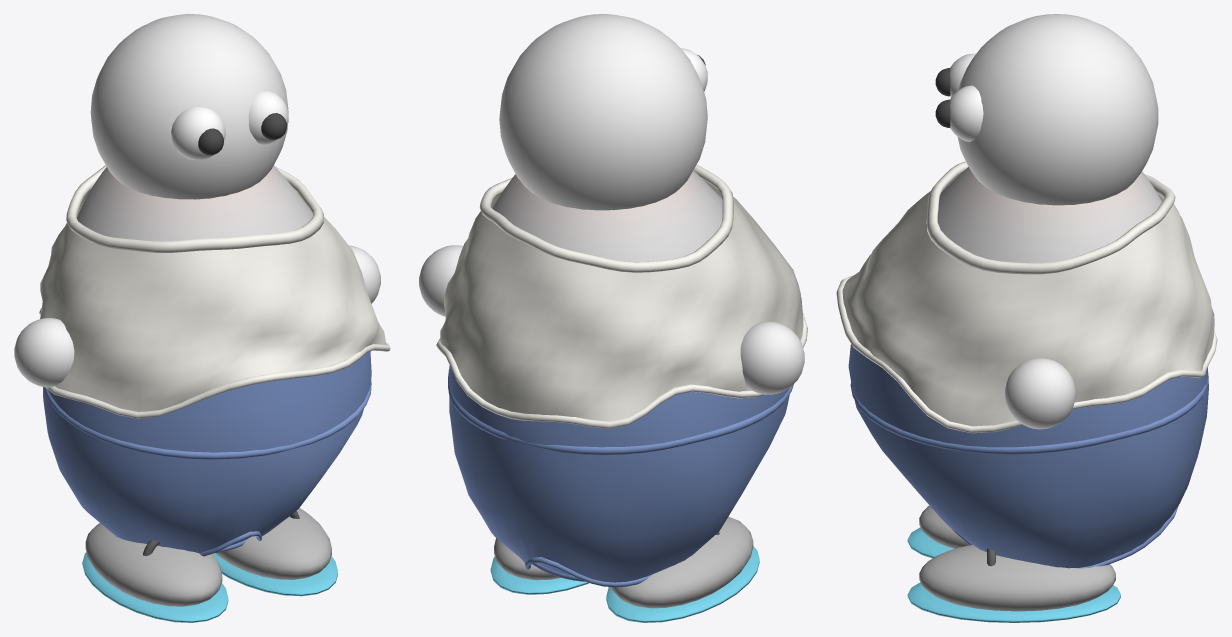
File: blob_egg_clay.glb
3 views of the same model, side by side, from view 1: azimuth 30°, elevation 25°; view 2: azimuth 150°, elevation 25°; view 3: azimuth 270°, elevation 25° (orthographic). The views are drawn at different scales.
Parts seen in each view (by area): view 1: Singlet, Shorts_boardies, Head, Torso, FootL, FootR, SingletNeck, HandR, SingletHem, ThongL, Shorts_budgies_band, ThongR (+5 smaller); view 2: Singlet, Shorts_boardies, Head, Torso, FootL, SingletNeck, HandR, SingletHem, ThongL, Shorts_budgies_band, HandL, ThongR (+2 smaller); view 3: Singlet, Shorts_boardies, Head, Torso, FootR, SingletNeck, HandL, ThongR, SingletHem, Shorts_budgies_band, EyeR, FootL (+3 smaller).
Boxes of the visible parts, x1,y1,x2,y2 form: Singlet: (40,190,386,411); Shorts_boardies: (43,351,371,552); Head: (90,14,288,199); Torso: (77,165,313,241); FootL: (85,523,222,606); FootR: (215,508,331,579); SingletNeck: (66,165,323,252); HandR: (14,318,74,387); SingletHem: (39,308,390,418); ThongL: (82,552,228,622); Shorts_budgies_band: (43,381,371,459); ThongR: (212,553,337,596); Singlet: (440,179,803,421); Shorts_boardies: (449,365,789,582); Head: (499,14,707,210); Torso: (492,170,722,262); FootL: (611,516,753,608); SingletNeck: (479,164,733,272); HandR: (740,321,804,394); SingletHem: (436,313,807,428); ThongL: (606,546,759,622); Shorts_budgies_band: (448,369,793,454); HandL: (419,245,463,316); ThongR: (490,556,588,594); Singlet: (842,174,1214,426); Shorts_boardies: (848,344,1208,568); Head: (957,14,1158,205); Torso: (937,167,1161,263); FootR: (919,545,1115,611); SingletNeck: (926,161,1175,274); HandL: (1005,358,1075,429); ThongR: (907,582,1120,622); SingletHem: (836,275,1217,433); Shorts_budgies_band: (850,376,1208,454); EyeR: (950,85,983,141); FootL: (919,505,968,548).
Bounding box in the file's own units: 1.3 × 1.87 × 1.17.
